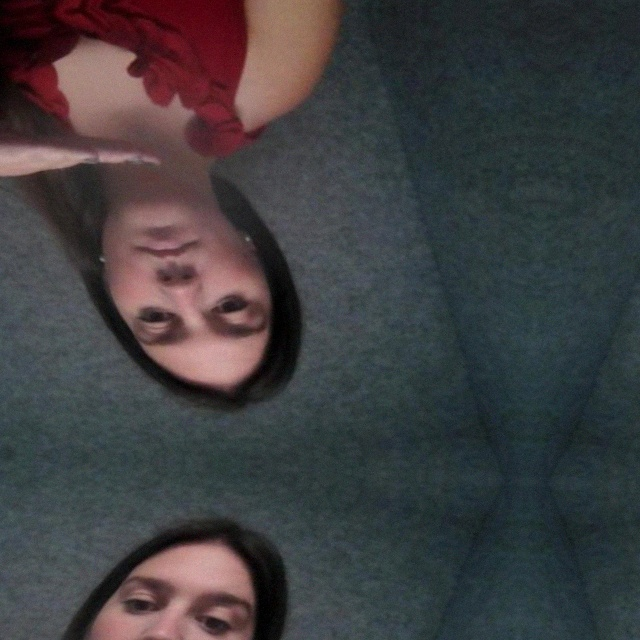Paper: (0, 63, 174, 228)
